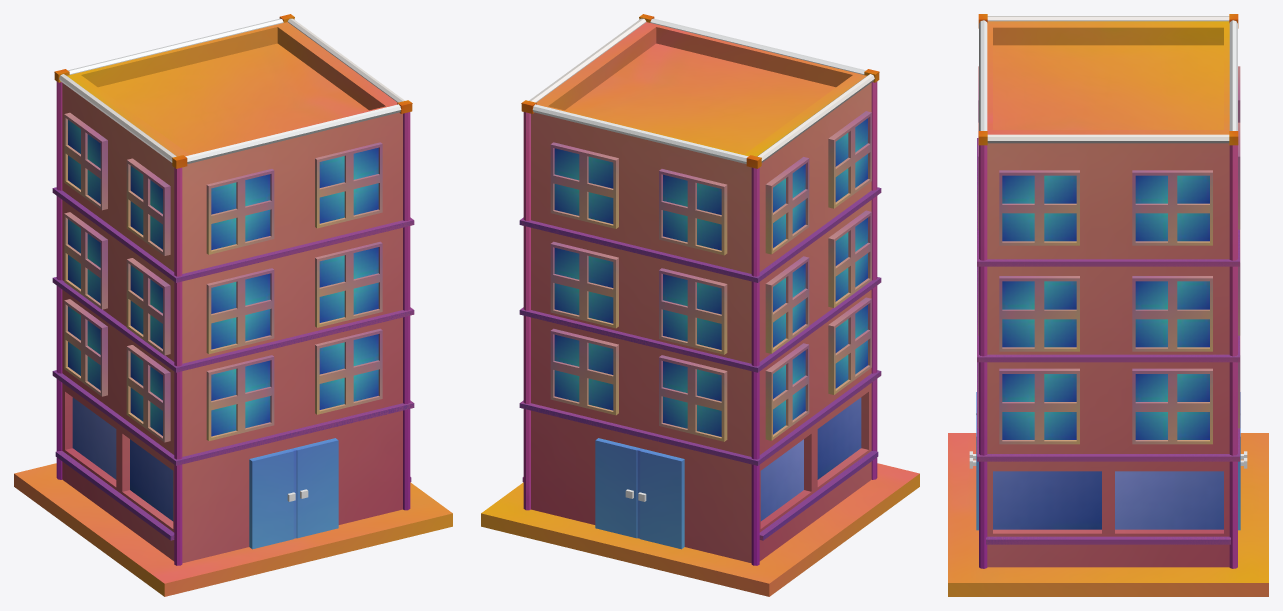
Rendered from House_13.glb.
The picture shows the model from 3 angles, left to right: view 1: azimuth 30°, elevation 25°; view 2: azimuth 150°, elevation 25°; view 3: azimuth 270°, elevation 25°; orthographic projection. The views are drawn at different scales.
Visible parts, largest first — view 1: House_13; view 2: House_13; view 3: House_13.
Part boxes in pixels (x1,y1,x2,y2): House_13: [14, 14, 452, 596]; House_13: [481, 14, 919, 596]; House_13: [948, 14, 1268, 596].
Bounding box in the file's own units: 738 × 1025 × 667.
Materials: 1 (1 with a texture image).
